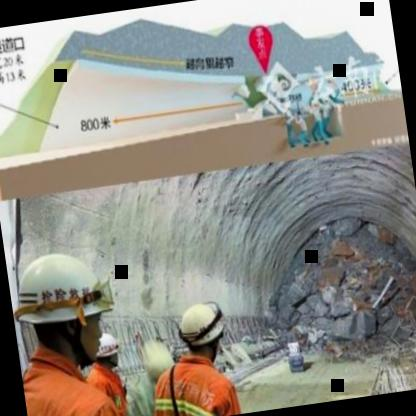helmet: (16, 235, 124, 367), (174, 298, 233, 360), (92, 332, 125, 374)
